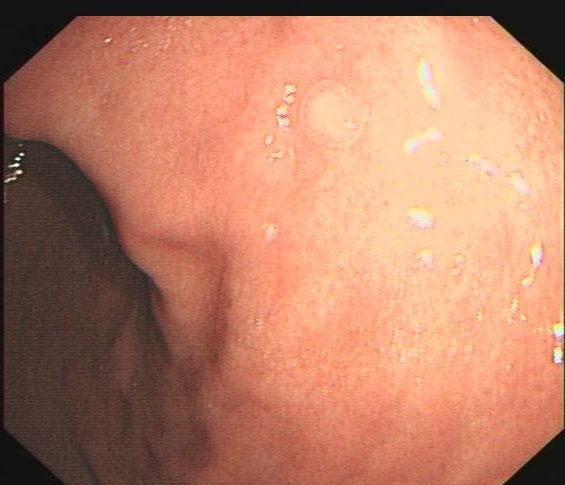Polyp: (279, 58, 396, 164)
